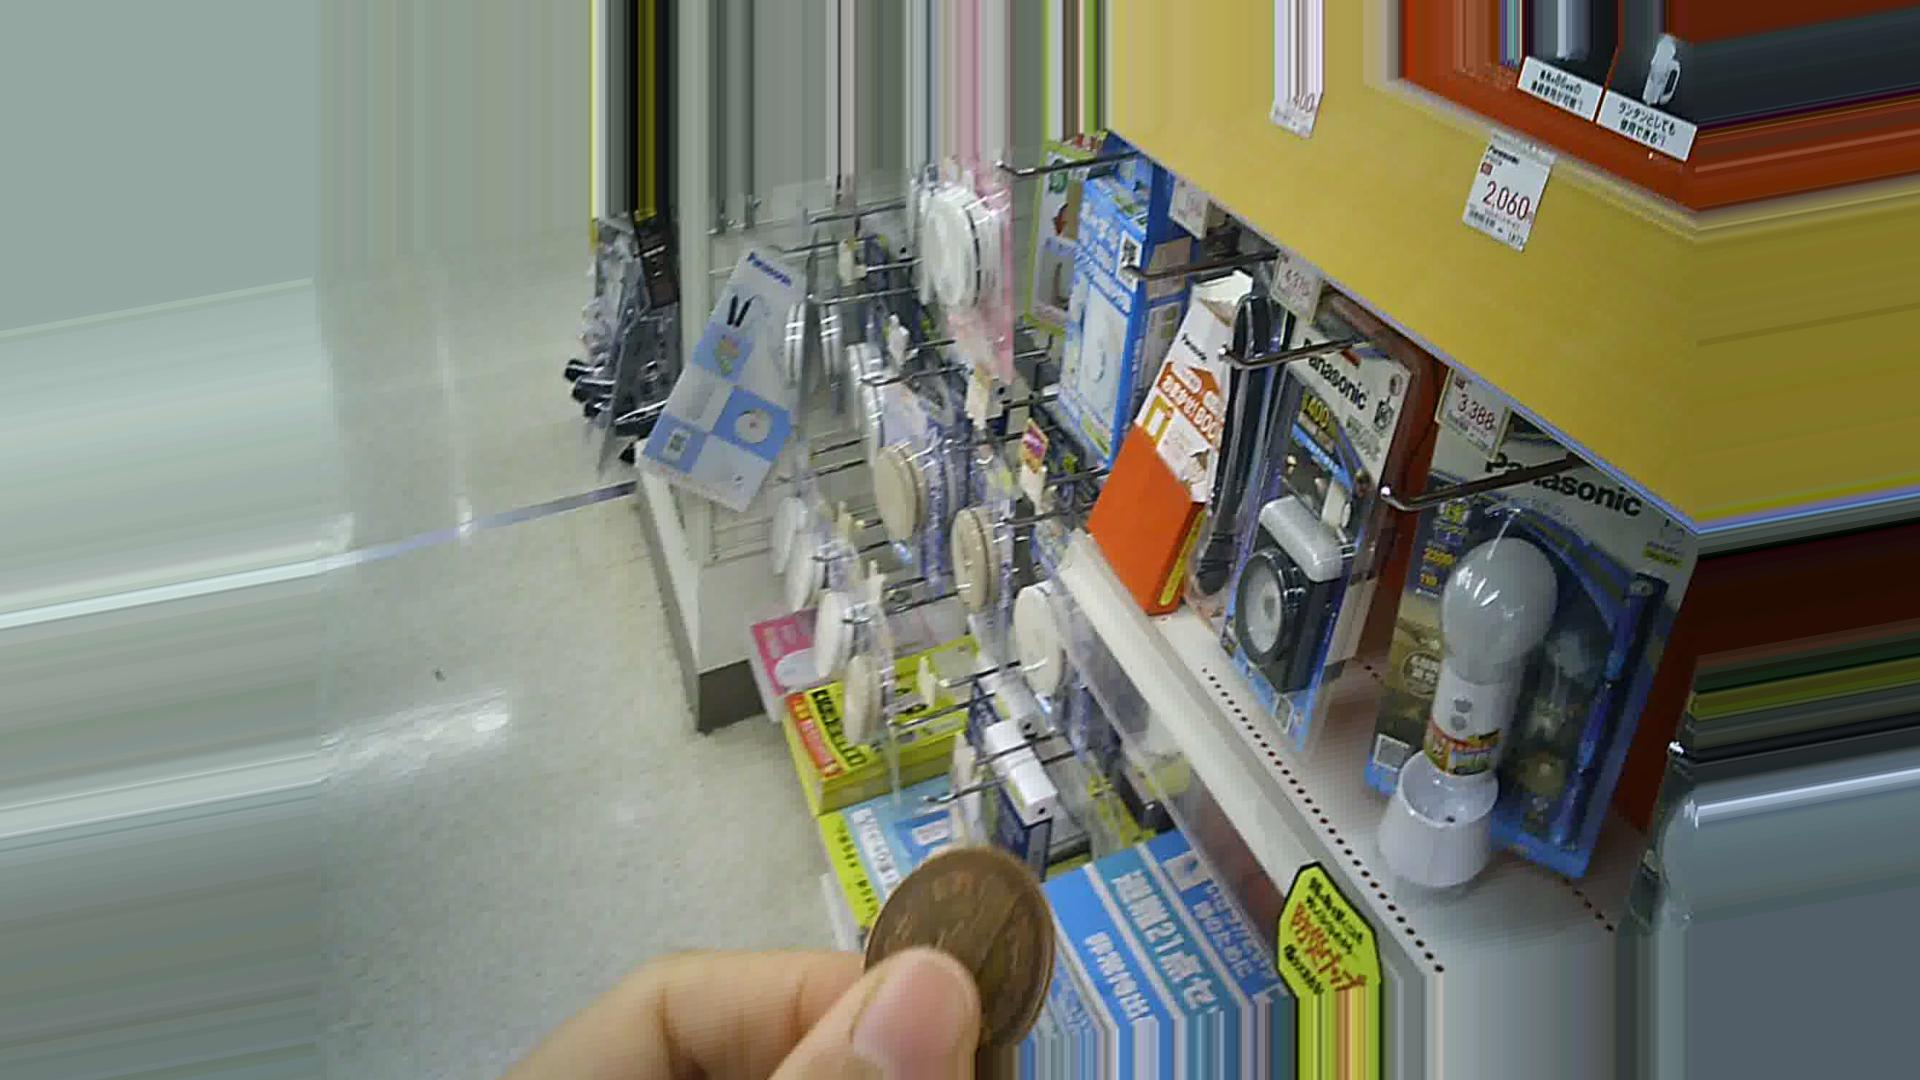10 Yen: (844, 847, 1054, 1036)
